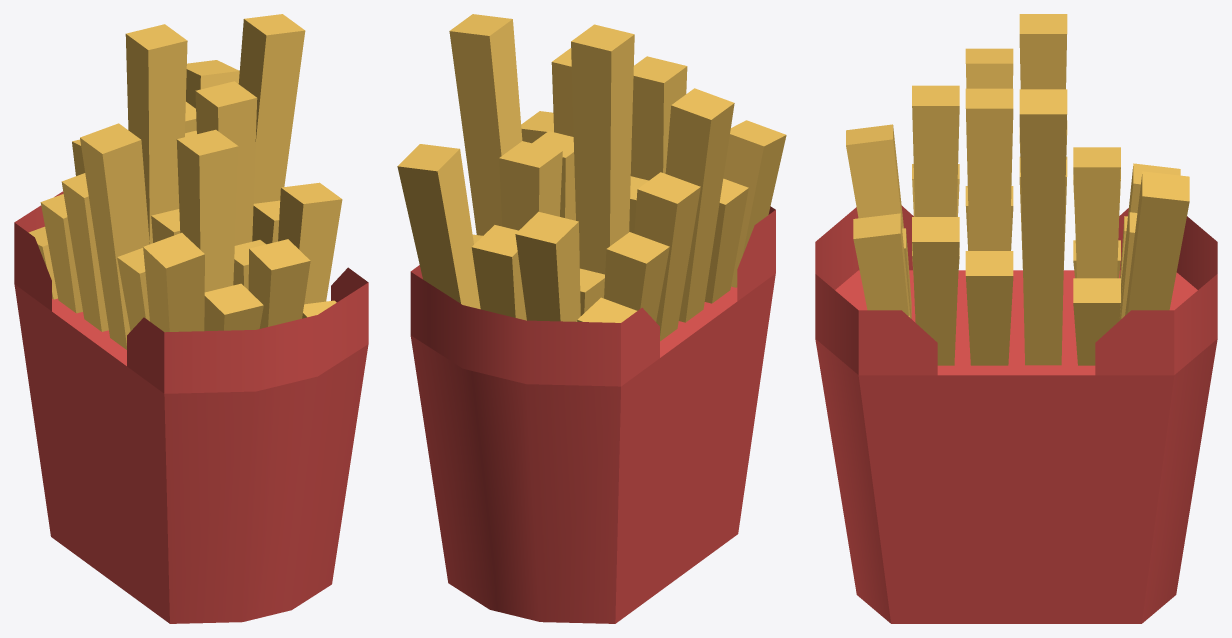
File: chips.glb
3 renders of one model, left to right at view 1: azimuth 30°, elevation 25°; view 2: azimuth 150°, elevation 25°; view 3: azimuth 270°, elevation 25°, orthographic. The views are drawn at different scales.
Parts seen in each view (by area): view 1: fries, fries_1; view 2: fries, fries_1; view 3: fries, fries_1.
Boxes of the visible parts, <box> form: fries: <box>14,191,368,623</box>; fries_1: <box>28,14,342,349</box>; fries: <box>410,206,775,623</box>; fries_1: <box>397,14,786,341</box>; fries: <box>815,205,1217,623</box>; fries_1: <box>846,14,1189,365</box>.
Bounding box in the file's own units: 0.1498 × 0.3257 × 0.2172.
